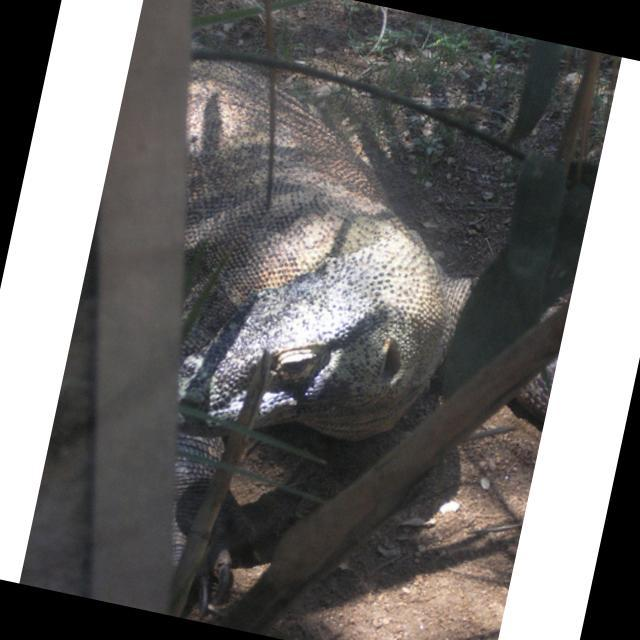KomodoDragon: (113, 0, 615, 501)
